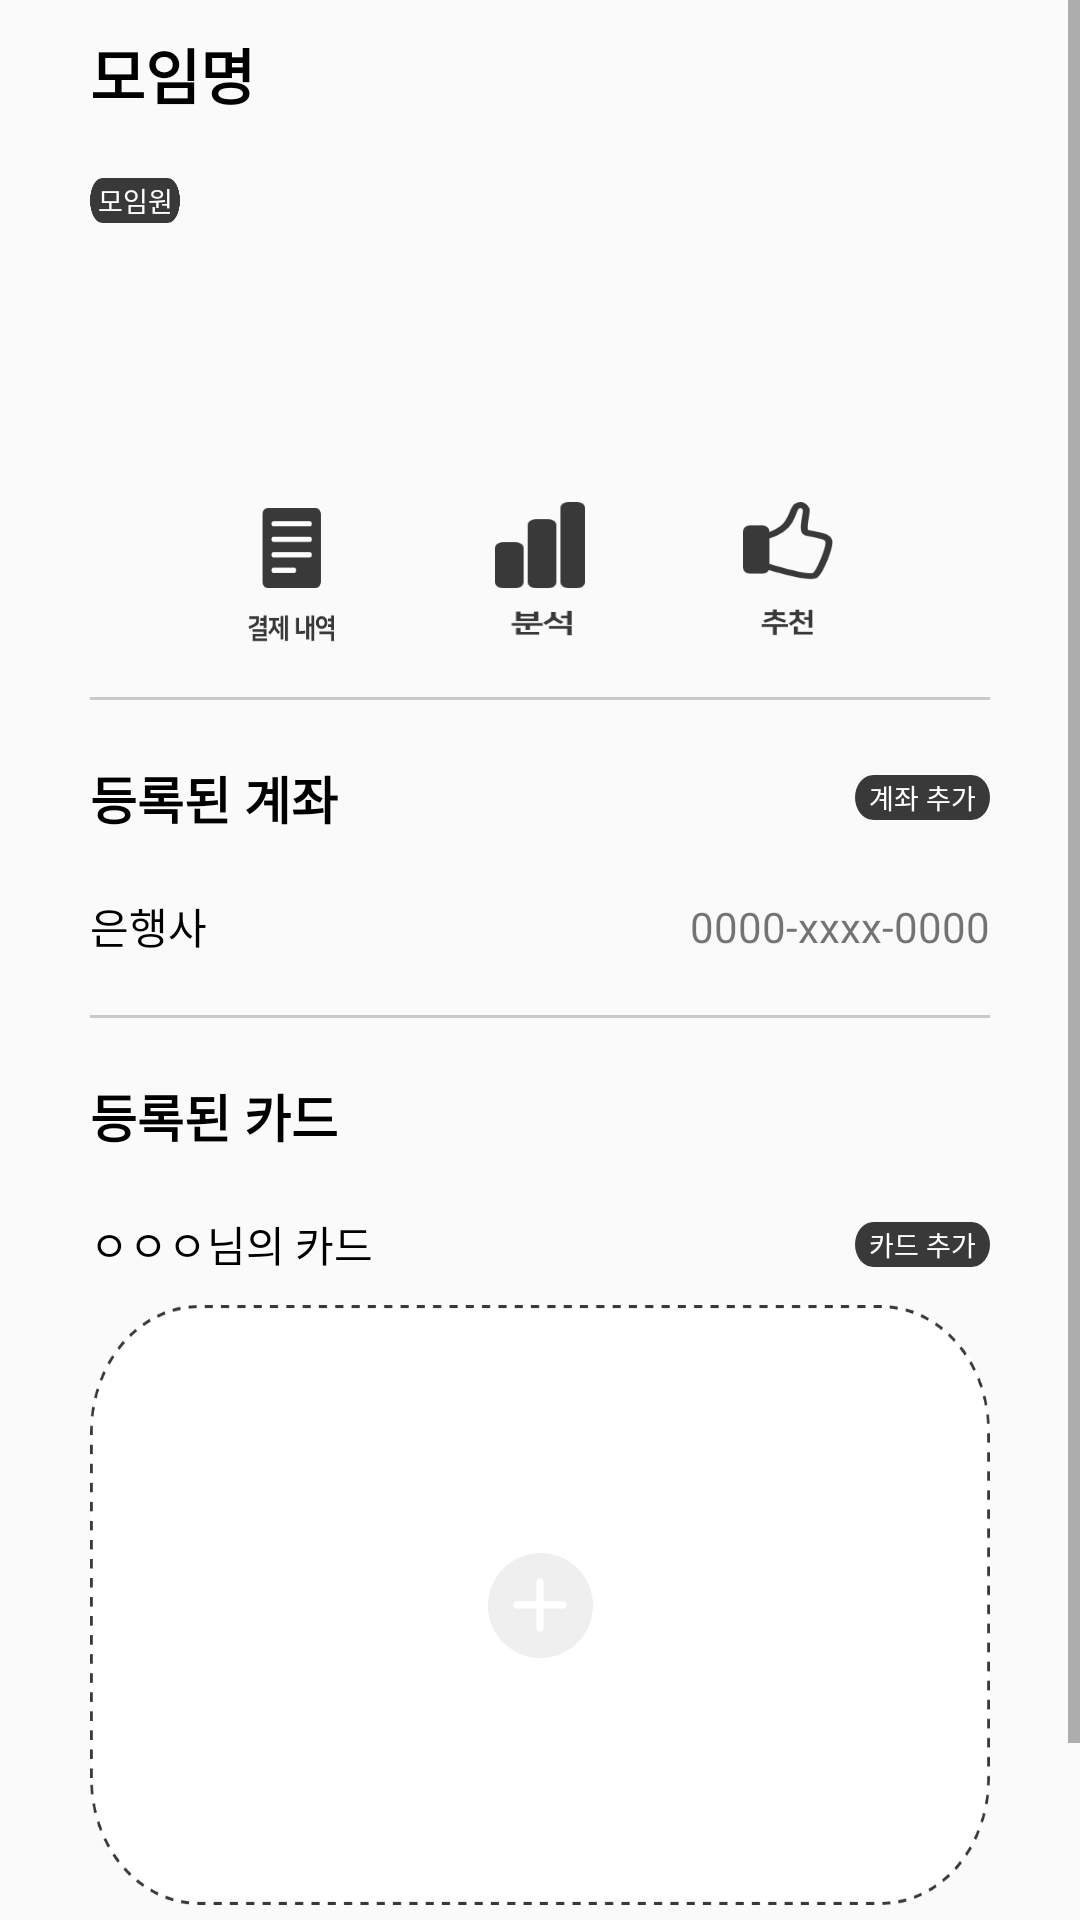

Named icons in this screenshot (1080 x 1920) and their centers, (x=x, y=y):
good: (x=788, y=568)
